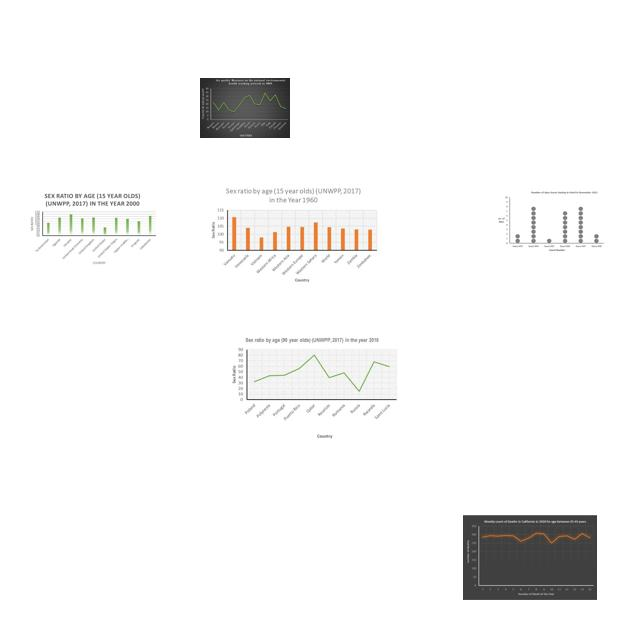Graph: (226, 335, 399, 439), (207, 185, 378, 283), (463, 515, 597, 600), (27, 191, 158, 268), (497, 190, 604, 253), (200, 78, 290, 138)
